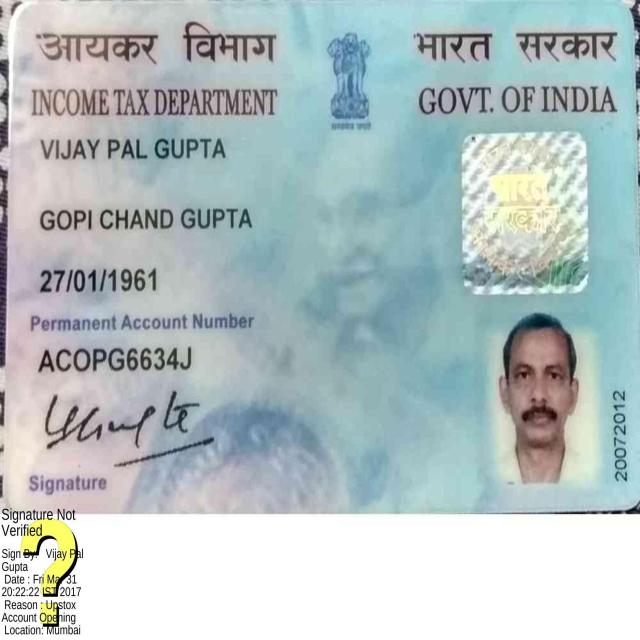pan_card: (1, 6, 638, 514)
